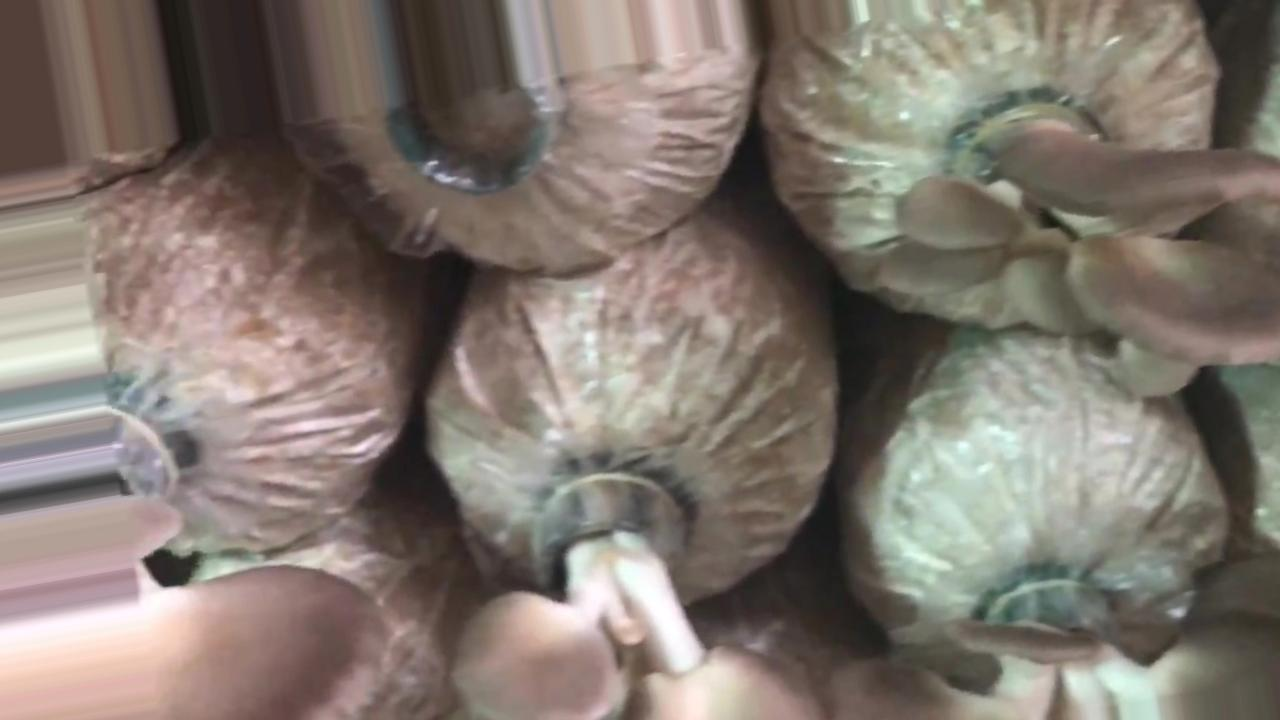nam: (892, 92, 1280, 397), (101, 364, 391, 720), (449, 471, 811, 720), (828, 582, 1277, 720)
